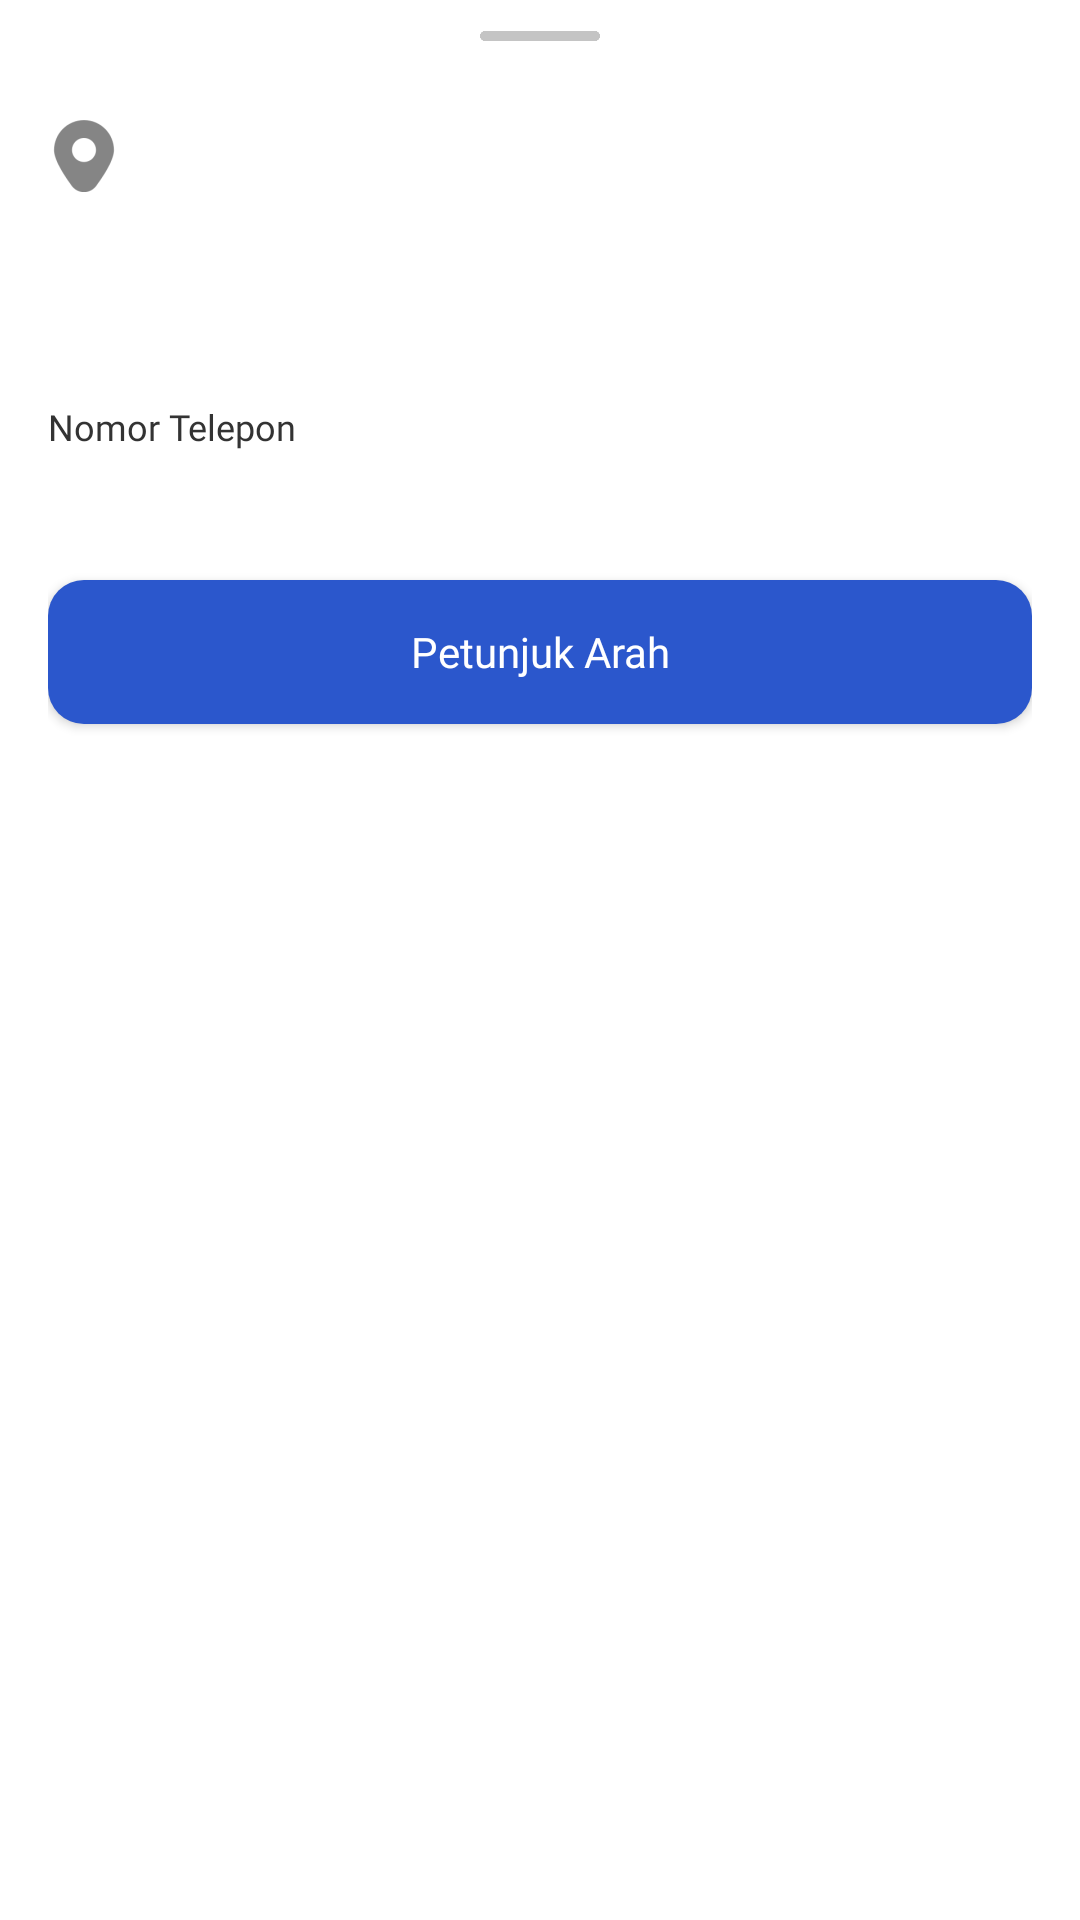

Screen size 1080*1920. Icon name, then its box in pixels as region(x1, y1, x2, y2):
marker: region(54, 120, 114, 192)
